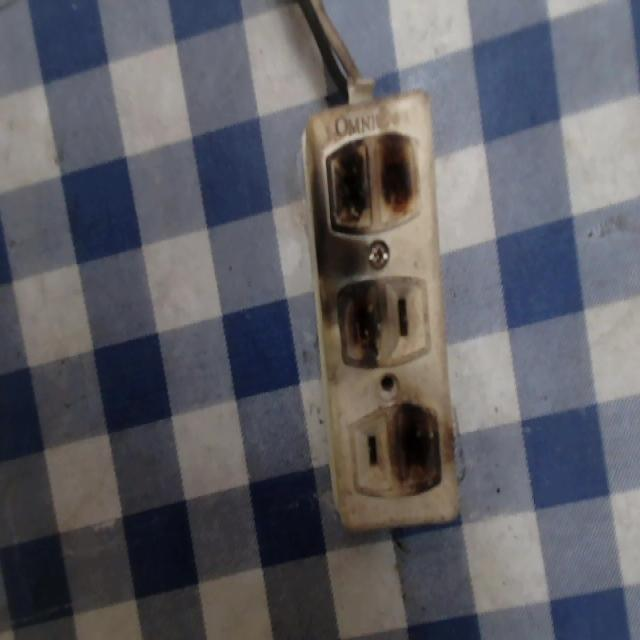-: (323, 123, 427, 237), (331, 277, 391, 371), (387, 398, 443, 498)
